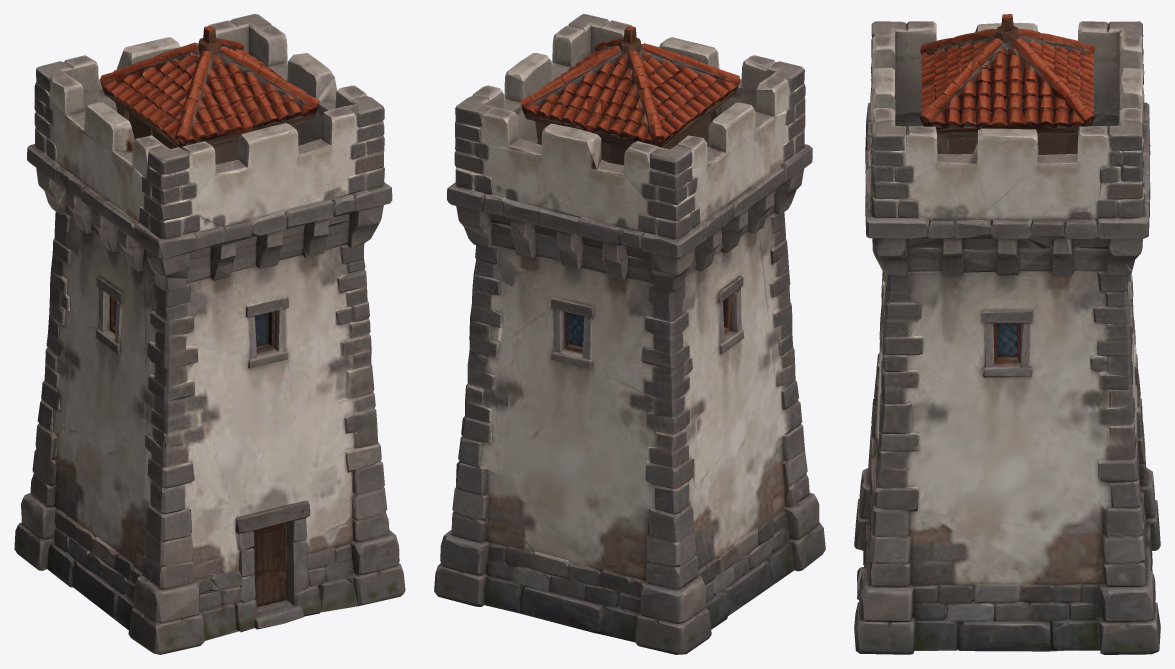
File: wallpost.glb
3 renders of one model, left to right at view 1: azimuth 30°, elevation 25°; view 2: azimuth 150°, elevation 25°; view 3: azimuth 270°, elevation 25°, orthographic. The views are drawn at different scales.
Size of the model in its own units: 0.9245 by 1.9 by 0.9173.
Materials: 1 (1 with a texture image).
